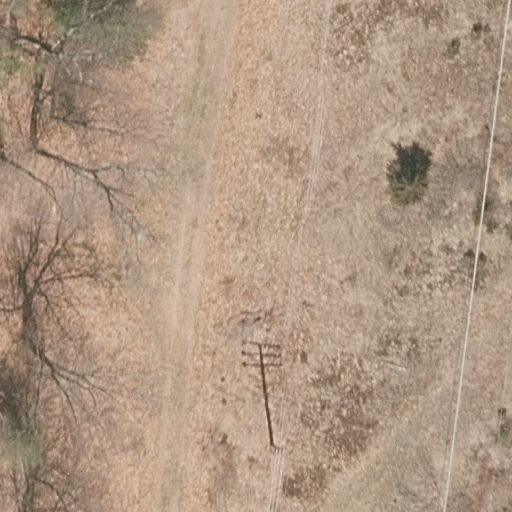DT: (268, 428, 289, 458)
